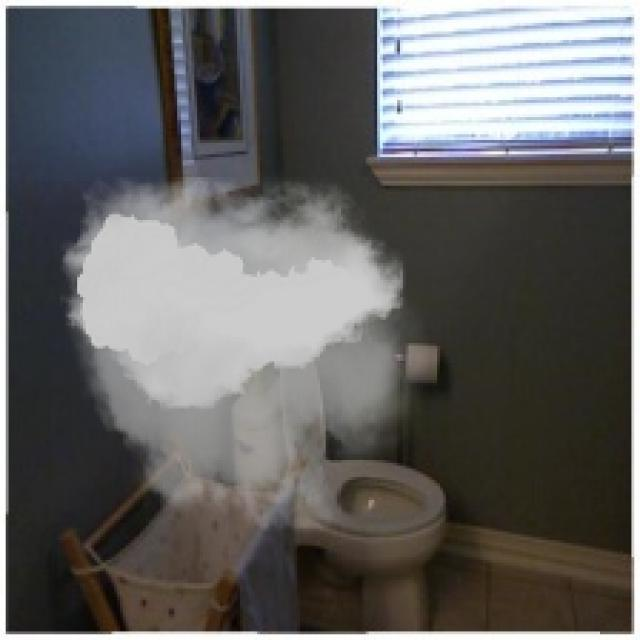Smoke: (51, 146, 428, 554)
